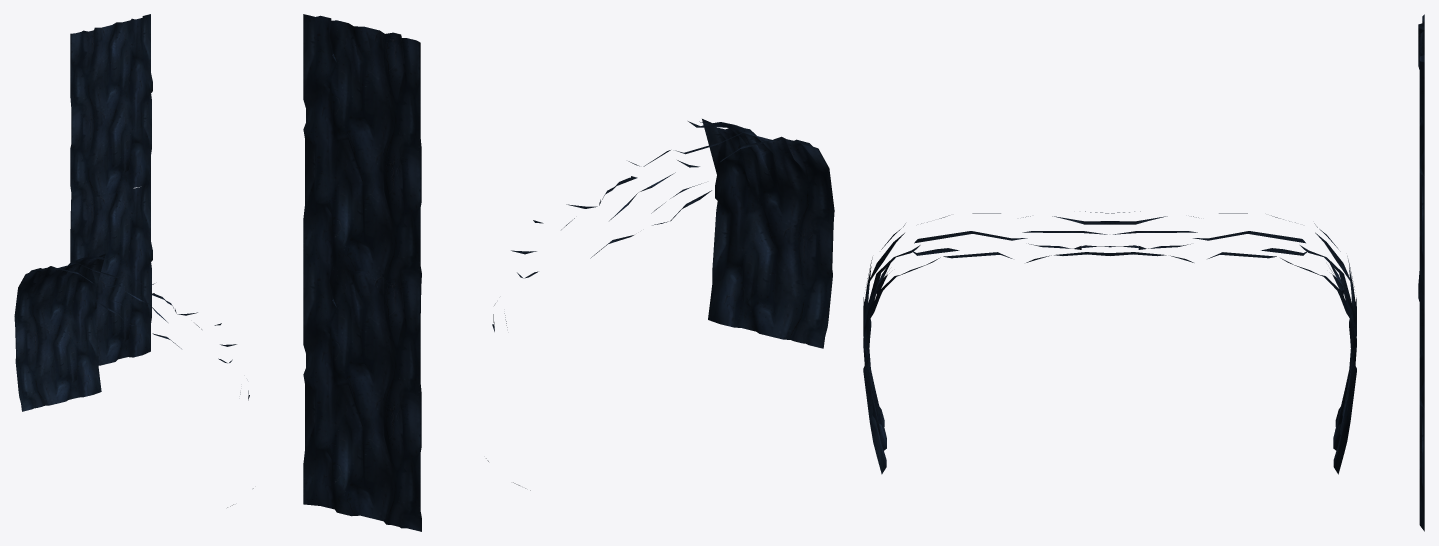
File: Wall.FBX
3 views of the same model, side by side, from view 1: azimuth 30°, elevation 25°; view 2: azimuth 150°, elevation 25°; view 3: azimuth 270°, elevation 25° (orthographic). The views are drawn at different scales.
Parts seen in each view (by area): view 1: Wall001, Wall; view 2: Wall001, Wall; view 3: Wall, Wall001.
Boxes of the visible parts, x1=… form: Wall001: x1=70, y1=14, x2=152, y2=365; Wall: x1=14, y1=253, x2=253, y2=507; Wall001: x1=303, y1=14, x2=421, y2=531; Wall: x1=486, y1=119, x2=834, y2=490; Wall: x1=863, y1=211, x2=1356, y2=474; Wall001: x1=1418, y1=14, x2=1424, y2=531.
Bounding box in the file's own units: 601 × 1200 × 1316.
Materials: 1 (1 with a texture image).
